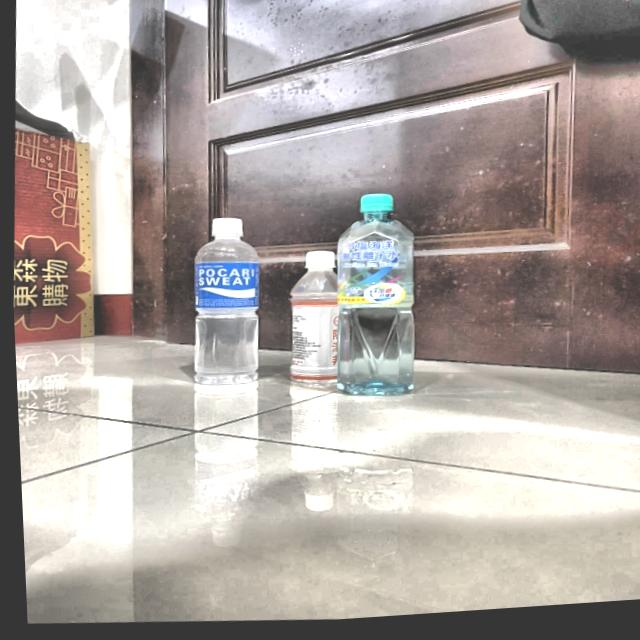Bottles: (277, 156, 457, 440), (158, 200, 290, 421), (257, 227, 361, 403)
